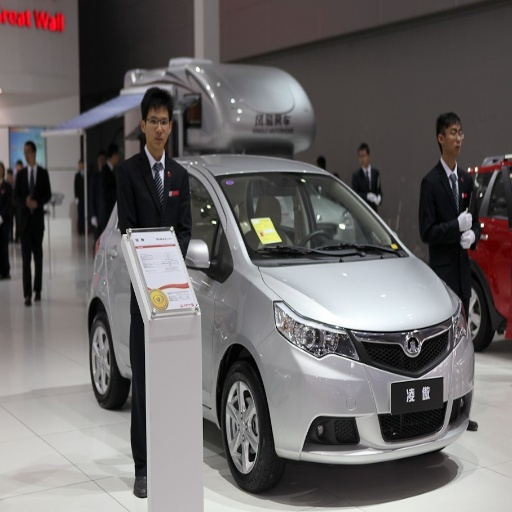front_bumper: (258, 314, 472, 464)
front_right_door: (156, 172, 226, 362)
front_right_light: (274, 302, 357, 358)
